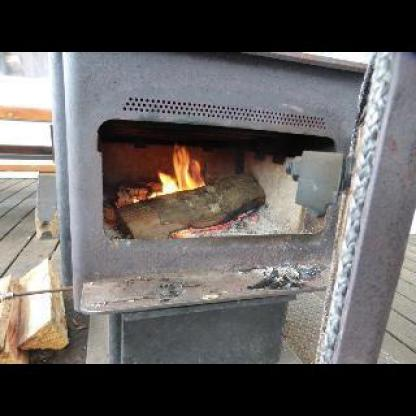fire: (152, 147, 206, 196)
